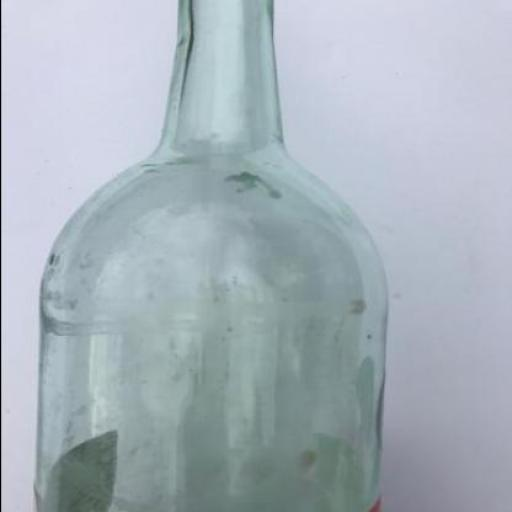glass: (31, 0, 384, 511)
